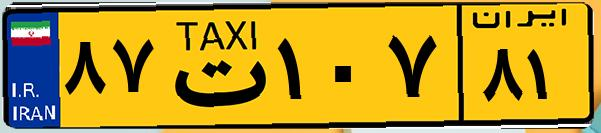0: (330, 28, 385, 110)
1: (270, 28, 330, 110), (525, 38, 570, 115)
7: (385, 28, 445, 110), (110, 28, 158, 98)
8: (57, 26, 110, 100), (475, 38, 525, 113)
ت: (158, 12, 270, 120)
